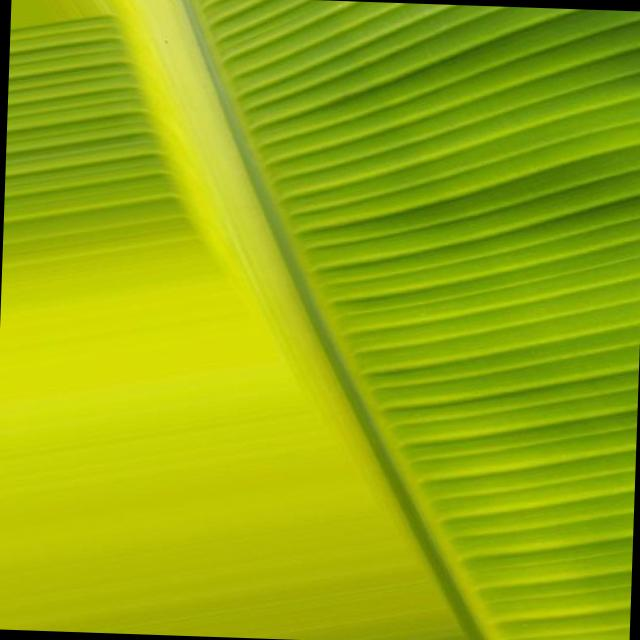Banana_Healthy: (270, 44, 640, 447)
